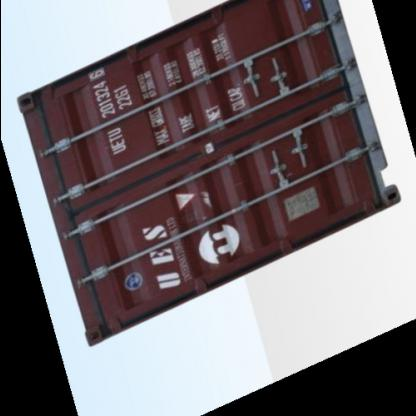Damage: (26, 85, 60, 145), (81, 278, 115, 336), (164, 190, 218, 224)
